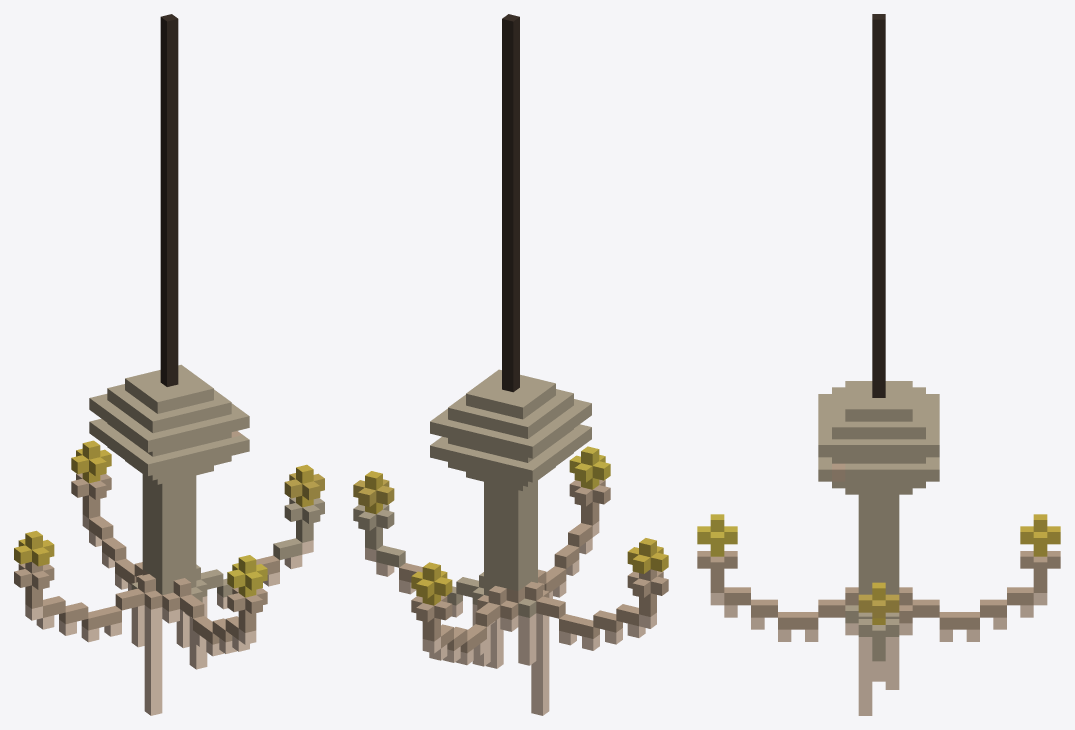
The model's file is chaliender.obj.
3 renders of one model, left to right at view 1: azimuth 30°, elevation 25°; view 2: azimuth 150°, elevation 25°; view 3: azimuth 270°, elevation 25°, orthographic. The views are drawn at different scales.
Bounding box in the file's own units: 27 × 58 × 27.
Materials: 1 (1 with a texture image).
